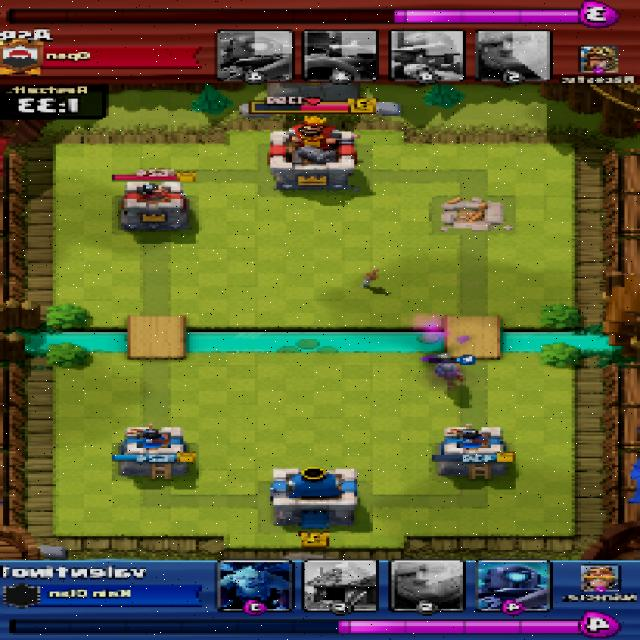Player-Musketeer: (434, 356, 472, 381)
